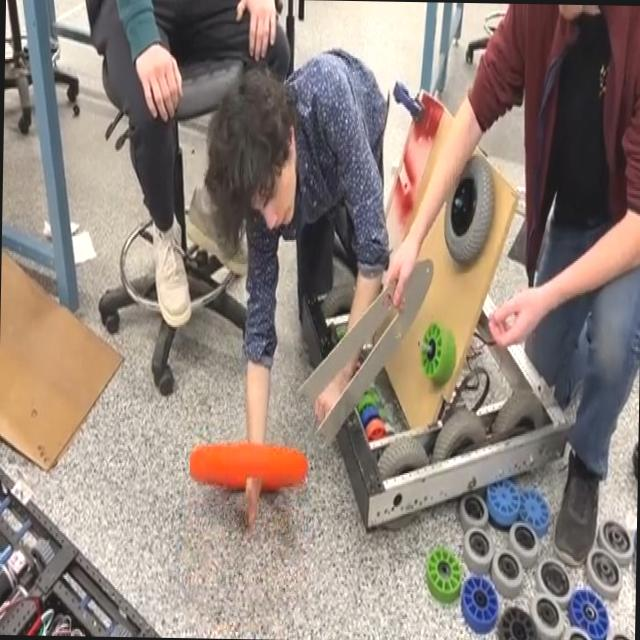note: (186, 435, 311, 498)
